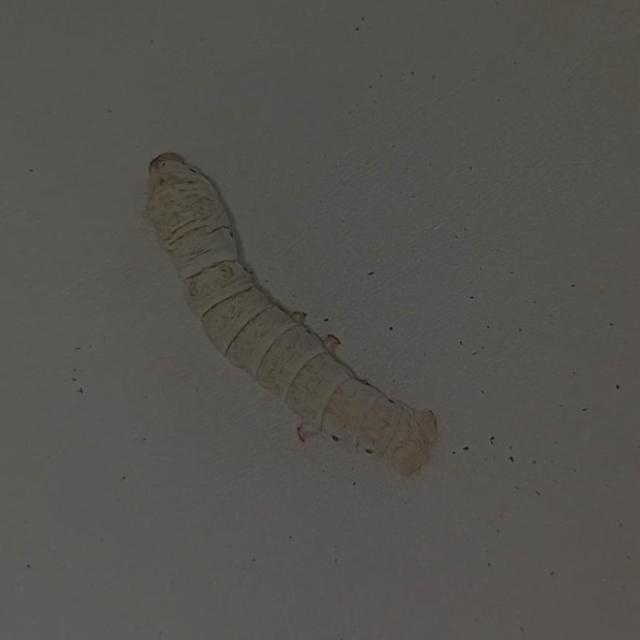Healthy: (128, 126, 465, 501)
